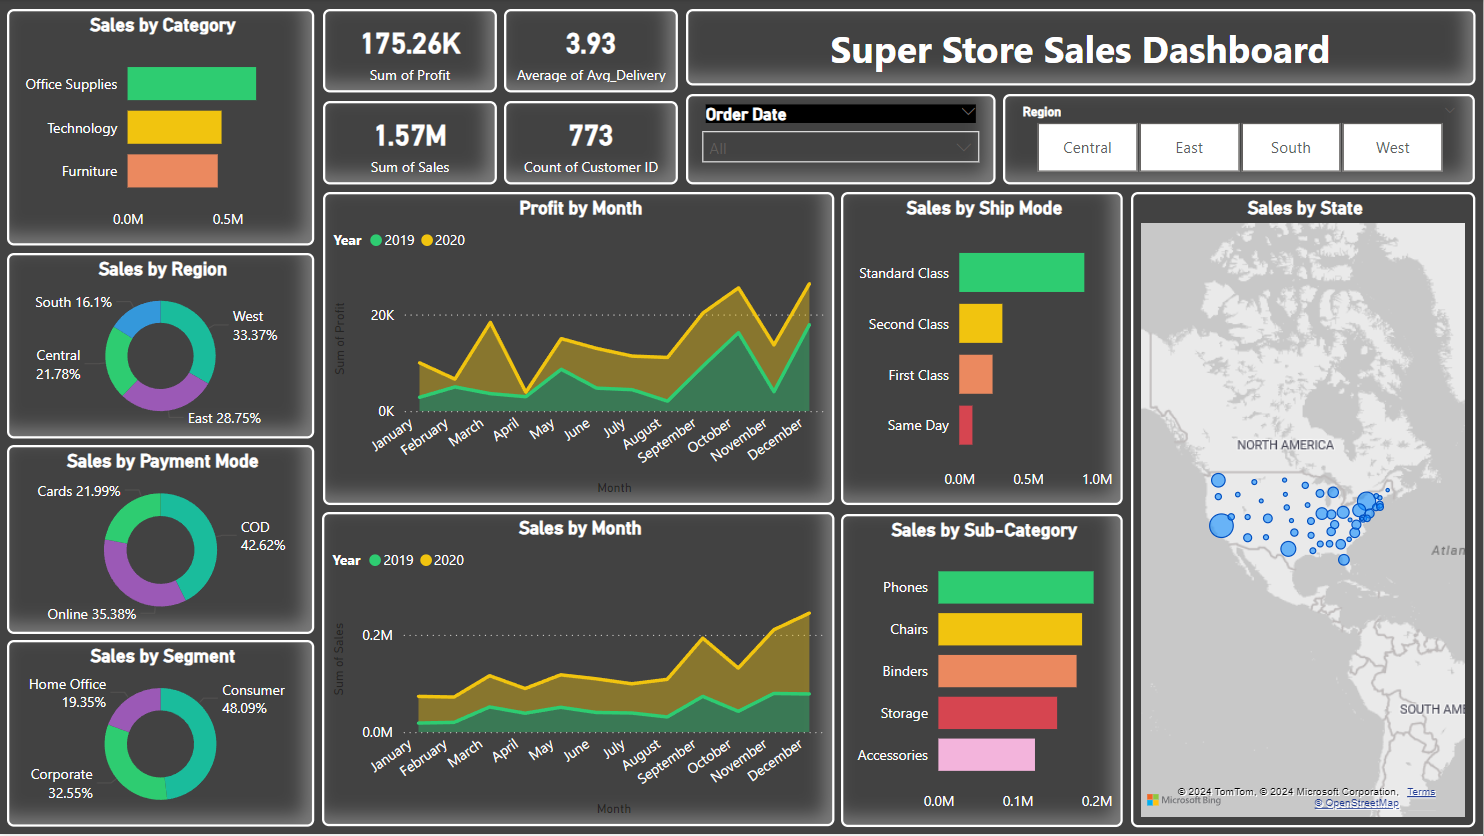

This screenshot's page, from the dashboard's own definition file:
{"tool":"powerbi","page":{"name":"Super Store Sales Dashboard","canvas":[1280,720],"ordinal":0},"visuals":[{"type":"barChart","title":"Sales by Category","fields":{"Y":["Sum(SuperStore_Sales_Dataset.Sales)"],"Category":["SuperStore_Sales_Dataset.Category"]},"box":[6.9,8.6,264.8,203.6],"z":0},{"type":"barChart","title":"Sales by Ship Mode","fields":{"Y":["Sum(SuperStore_Sales_Dataset.Sales)"],"Category":["SuperStore_Sales_Dataset.Ship Mode"]},"box":[726.3,166.5,243.2,270],"z":1000},{"type":"stackedAreaChart","title":"Sales by Month","fields":{"Series":["SuperStore_Sales_Dataset.Order Date.Variation.Date Hierarchy.Year"],"Category":["SuperStore_Sales_Dataset.Order Date.Variation.Date Hierarchy.Month"],"Y":["Sum(SuperStore_Sales_Dataset.Sales)"]},"box":[278.6,442.5,441.6,270.8],"z":3000},{"type":"stackedAreaChart","title":"Profit by Month","fields":{"Series":["SuperStore_Sales_Dataset.Order Date.Variation.Date Hierarchy.Year"],"Category":["SuperStore_Sales_Dataset.Order Date.Variation.Date Hierarchy.Month"],"Y":["Sum(SuperStore_Sales_Dataset.Profit)"]},"box":[279.5,166.5,440.8,270],"z":4000},{"type":"map","title":"Sales by State","fields":{"Category":["SuperStore_Sales_Dataset.State"],"Size":["Sum(SuperStore_Sales_Dataset.Sales)"]},"box":[976.4,166.5,296.7,547.7],"z":5000},{"type":"donutChart","title":"Sales by Segment","fields":{"Category":["SuperStore_Sales_Dataset.Segment"],"Y":["Sum(SuperStore_Sales_Dataset.Sales)"]},"box":[6.9,552.9,264.8,161.3],"z":6000},{"type":"donutChart","title":"Sales by Payment Mode","fields":{"Category":["SuperStore_Sales_Dataset.Payment Mode"],"Y":["Sum(SuperStore_Sales_Dataset.Sales)"]},"box":[6.9,384.7,264.8,163],"z":7000},{"type":"donutChart","title":"Sales by Region","fields":{"Category":["SuperStore_Sales_Dataset.Region"],"Y":["Sum(SuperStore_Sales_Dataset.Sales)"]},"box":[6.9,219.1,264.8,159.6],"z":8000},{"type":"slicer","fields":{"Values":["SuperStore_Sales_Dataset.Region"]},"box":[866,81.9,407.1,77.6],"z":9000},{"type":"card","fields":{"Values":["Sum(SuperStore_Sales_Dataset.Sales)"]},"box":[279.5,88,150.1,72.5],"z":10000},{"type":"card","fields":{"Values":["Sum(SuperStore_Sales_Dataset.Profit)"]},"box":[279.5,8.6,150.1,72.5],"z":11000},{"type":"card","fields":{"Values":["Count(SuperStore_Sales_Dataset.Customer ID)"]},"box":[435.6,88,150.1,72.5],"z":12000},{"type":"card","fields":{"Values":["Avg(SuperStore_Sales_Dataset.Avg_Delivery)"]},"box":[435.6,8.6,150.1,72.5],"z":12001},{"type":"barChart","title":"Sales by Sub-Category","fields":{"Y":["Sum(SuperStore_Sales_Dataset.Sales)"],"Category":["SuperStore_Sales_Dataset.Sub-Category"]},"box":[726.3,444.2,243.2,270],"z":12004},{"type":"slicer","fields":{"Values":["SuperStore_Sales_Dataset.Order Date"]},"box":[592.6,81.9,266.5,77.6],"z":12006},{"type":"textbox","box":[592.6,8.6,680.5,65.6],"z":12007}]}

Visuals, with their boxes in screenshot pixels (x1, y1, x2, y2), scaled from the page's 1280x720 canvas onto the 1484x836 screenshot:
"Sales by Category" barChart: 8, 10, 315, 246
"Sales by Ship Mode" barChart: 842, 193, 1124, 507
"Sales by Month" stackedAreaChart: 323, 514, 835, 828
"Profit by Month" stackedAreaChart: 324, 193, 835, 507
"Sales by State" map: 1132, 193, 1476, 829
"Sales by Segment" donutChart: 8, 642, 315, 829
"Sales by Payment Mode" donutChart: 8, 447, 315, 636
"Sales by Region" donutChart: 8, 254, 315, 440
slicer - SuperStore_Sales_Dataset.Region: 1004, 95, 1476, 185
card - Sum(SuperStore_Sales_Dataset.Sales): 324, 102, 498, 186
card - Sum(SuperStore_Sales_Dataset.Profit): 324, 10, 498, 94
card - Count(SuperStore_Sales_Dataset.Customer ID): 505, 102, 679, 186
card - Avg(SuperStore_Sales_Dataset.Avg_Delivery): 505, 10, 679, 94
"Sales by Sub-Category" barChart: 842, 516, 1124, 829
slicer - SuperStore_Sales_Dataset.Order Date: 687, 95, 996, 185
textbox: 687, 10, 1476, 86
